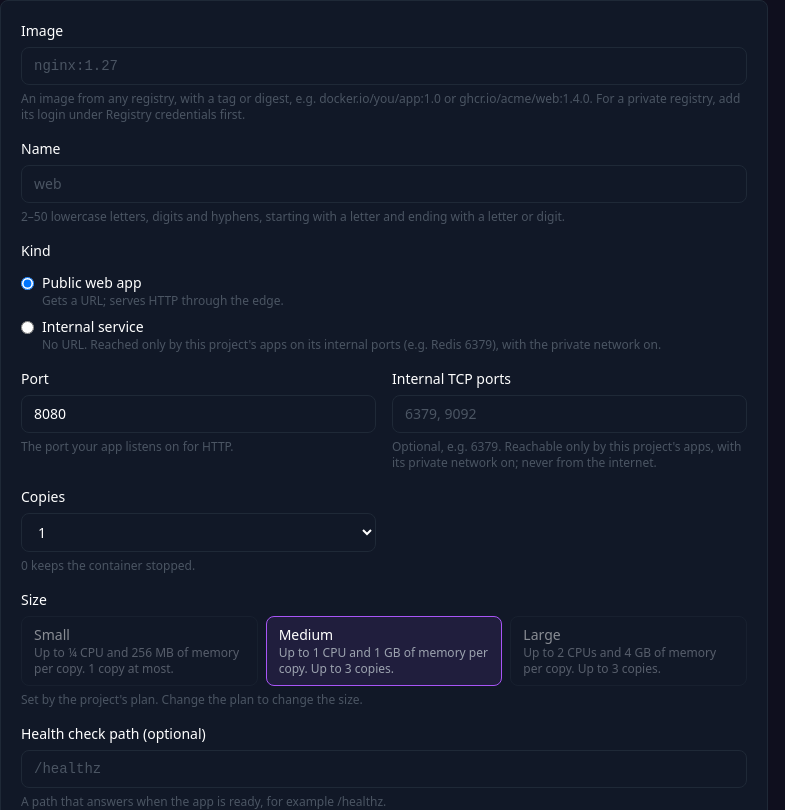
AppForm › names the container after the image until the name is edited
Type "ghcr.io/acme/My_Web:1.0" into the field with test id "app-image". click: (384,66)
box: [21,47,747,85]
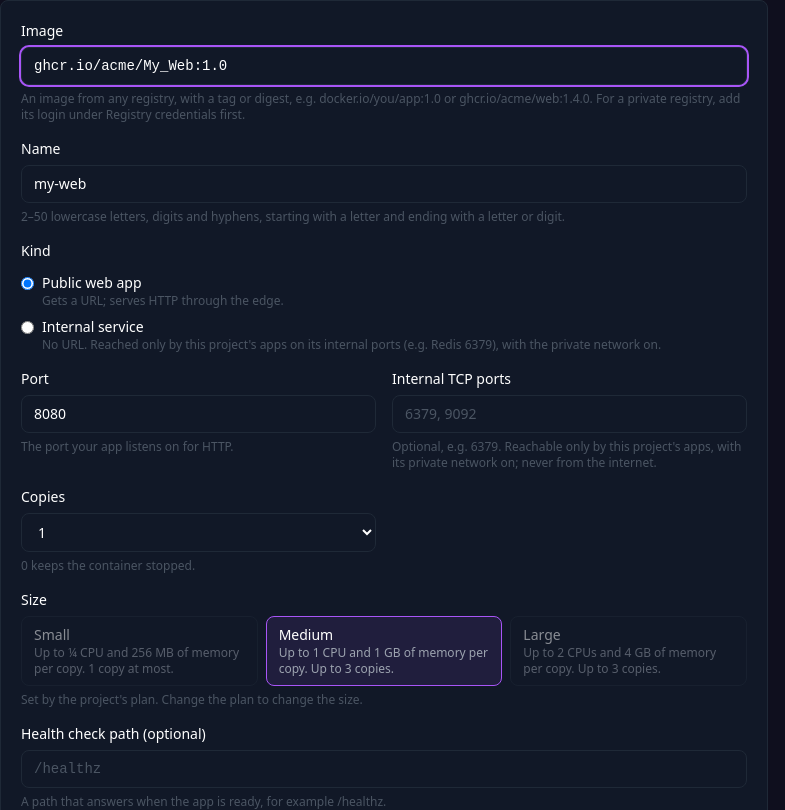
Expected: the field with test id "app-name" holds "my-web", [21,165,747,203]
